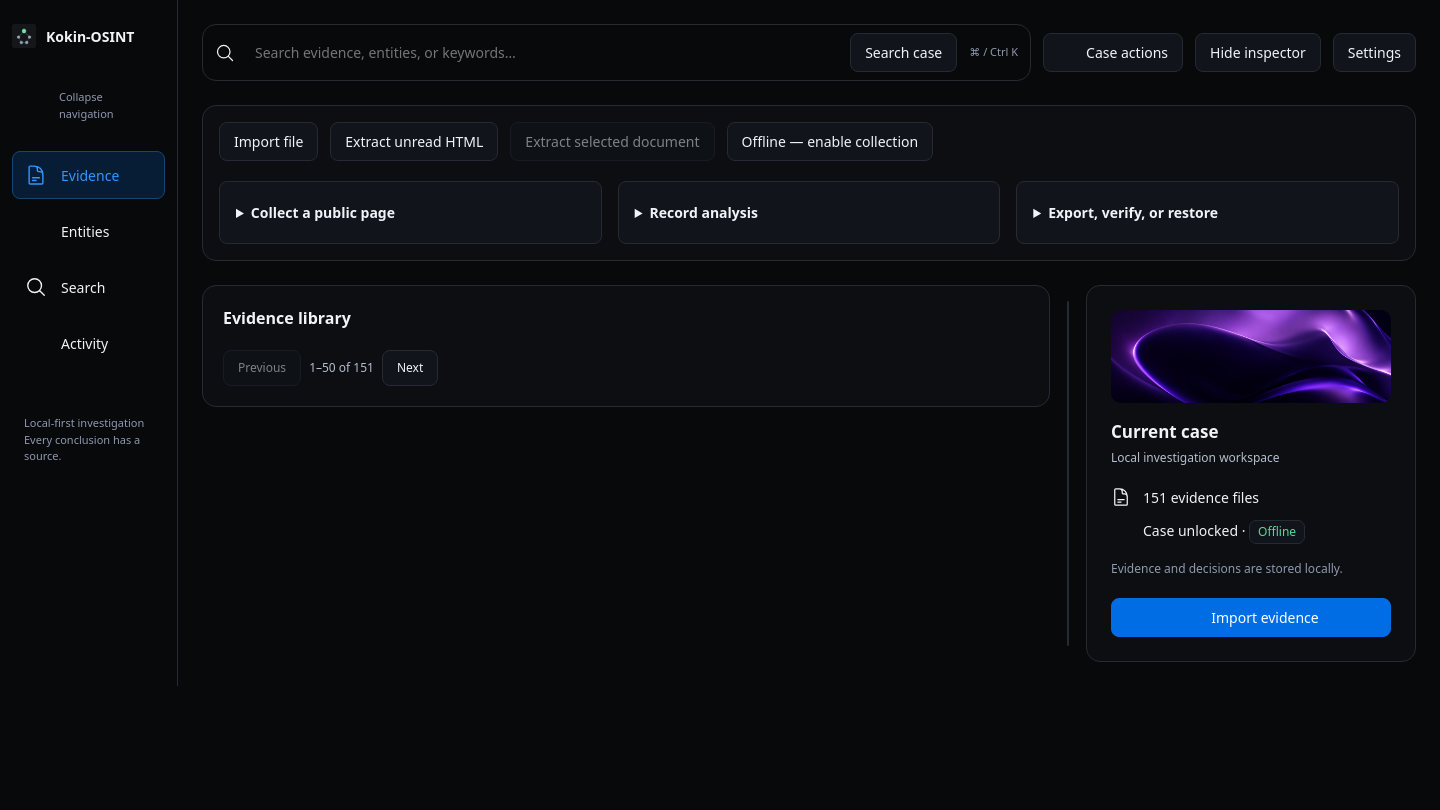
Test: shows coverage even alongside nonempty search results and audit limitations
This screenshot has width=1440, height=810.
Click the button "Search".
click(88, 287)  # box left=12, top=263, right=165, bottom=311
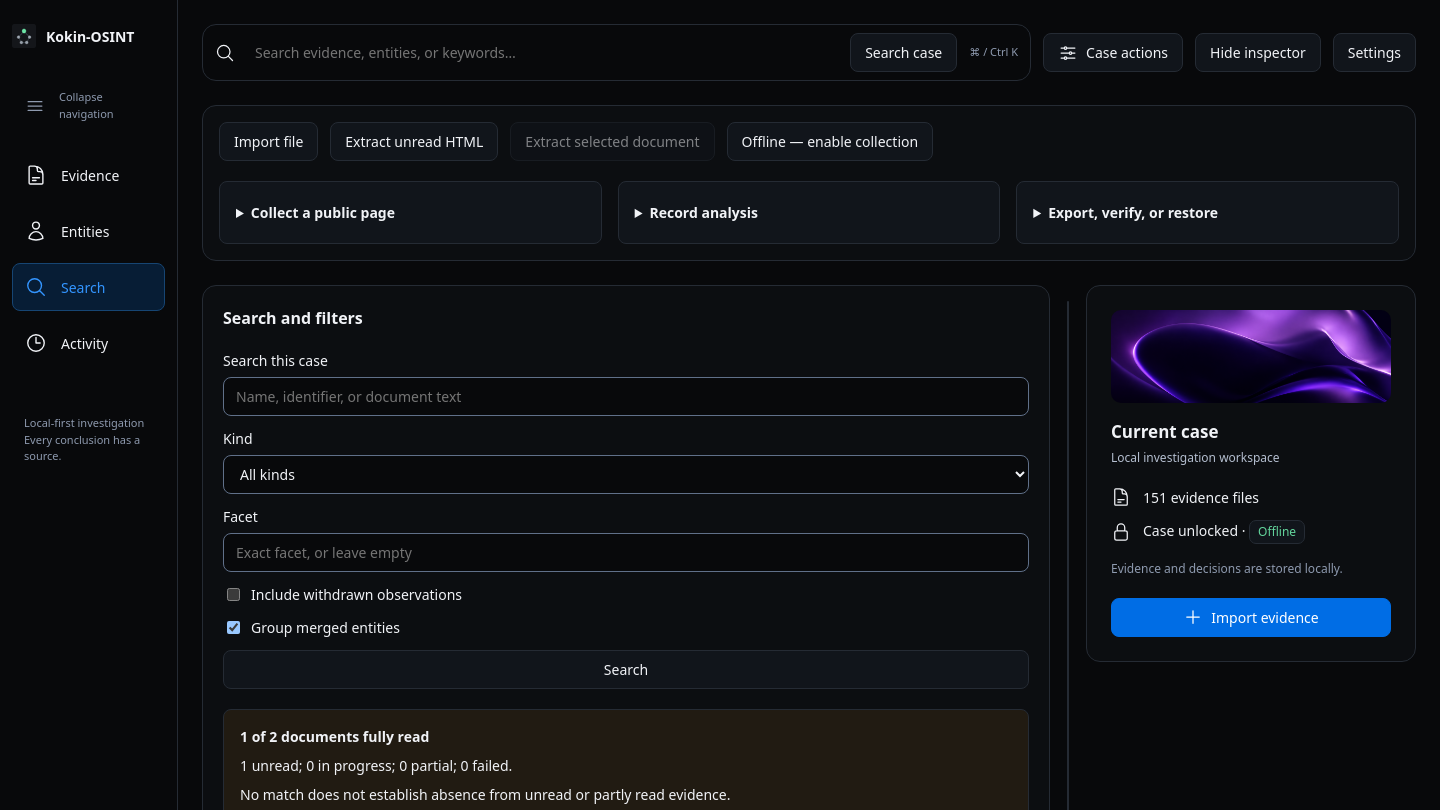
Check: the text "match" is shown, box left=240, top=785, right=730, bottom=804
Check: the text "1 of 2 documents fully read" is shown, box left=240, top=727, right=429, bottom=746
Check: the text "No match does not establish absence" is shown, box left=240, top=785, right=730, bottom=804
Click the button "Activity".
click(88, 343)  # box left=12, top=319, right=165, bottom=367
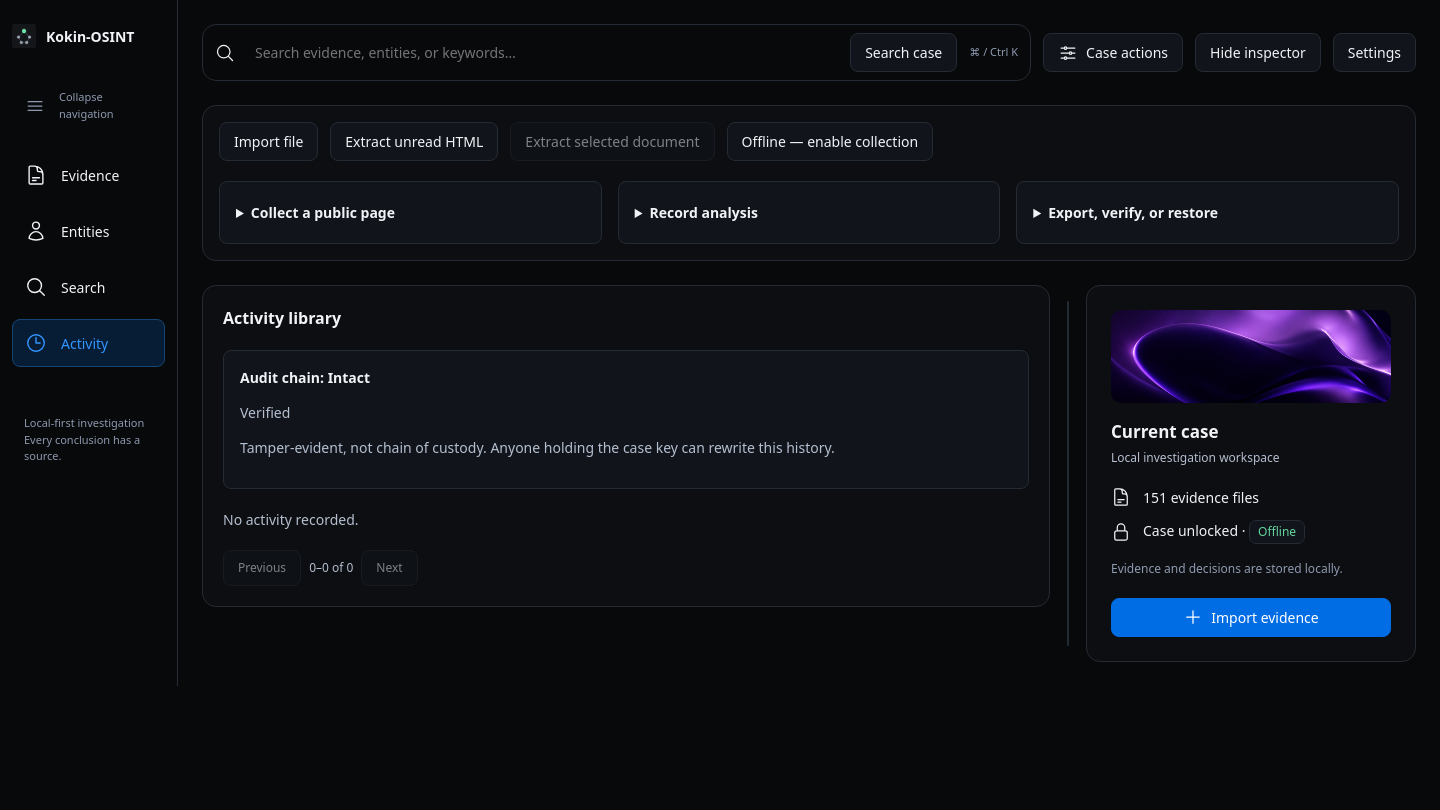
Check: the text "Tamper-evident, not chain of custody" is shown, box left=240, top=438, right=835, bottom=457
